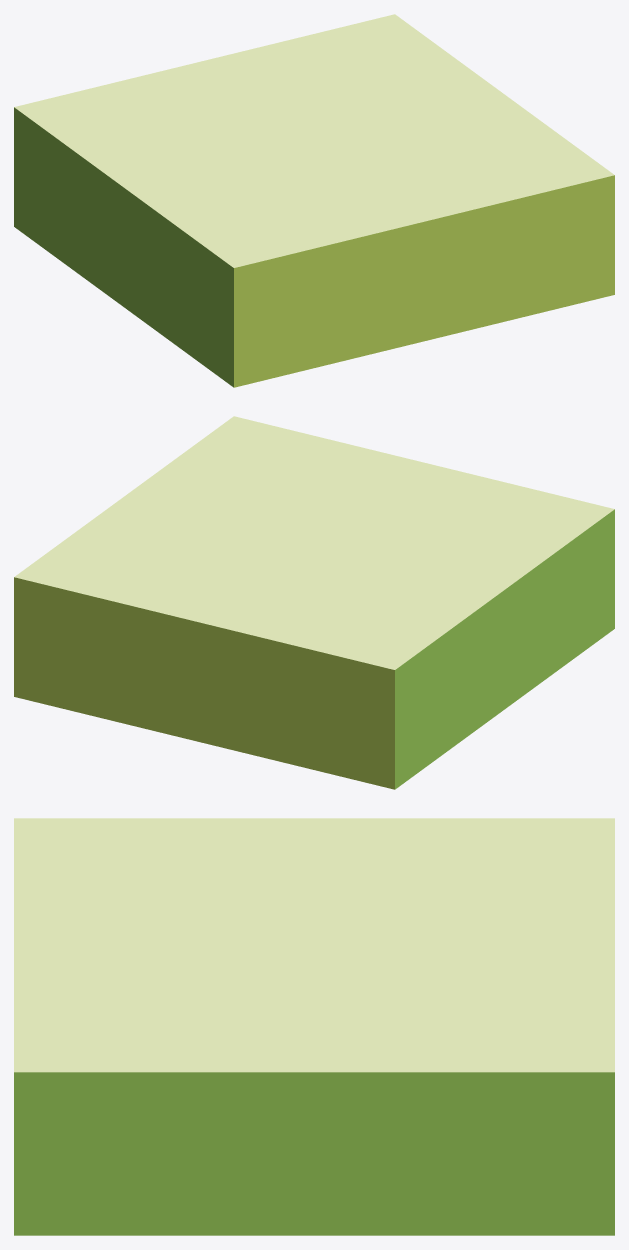
The model's file is floor_basic7.fbx.
3 views of the same model, one above another, from view 1: azimuth 30°, elevation 25°; view 2: azimuth 150°, elevation 25°; view 3: azimuth 270°, elevation 25° (orthographic). The views are drawn at different scales.
Visible parts, largest first — view 1: floor_basic7; view 2: floor_basic7; view 3: floor_basic7.
Part boxes in pixels (x1,y1,x2,y2): floor_basic7: (14,14,614,387); floor_basic7: (14,416,614,789); floor_basic7: (14,818,614,1235).
Bounding box in the file's own units: 100 × 30 × 100.
